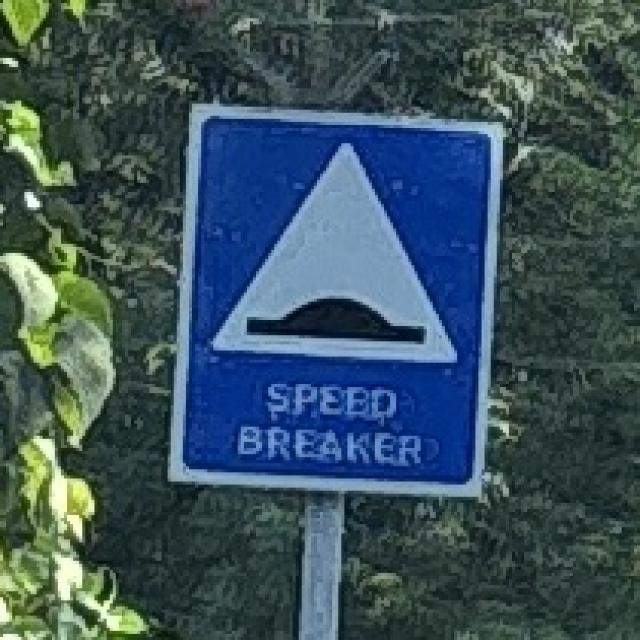HUMP_OR_ROUGH_ROAD: (185, 110, 508, 501)
